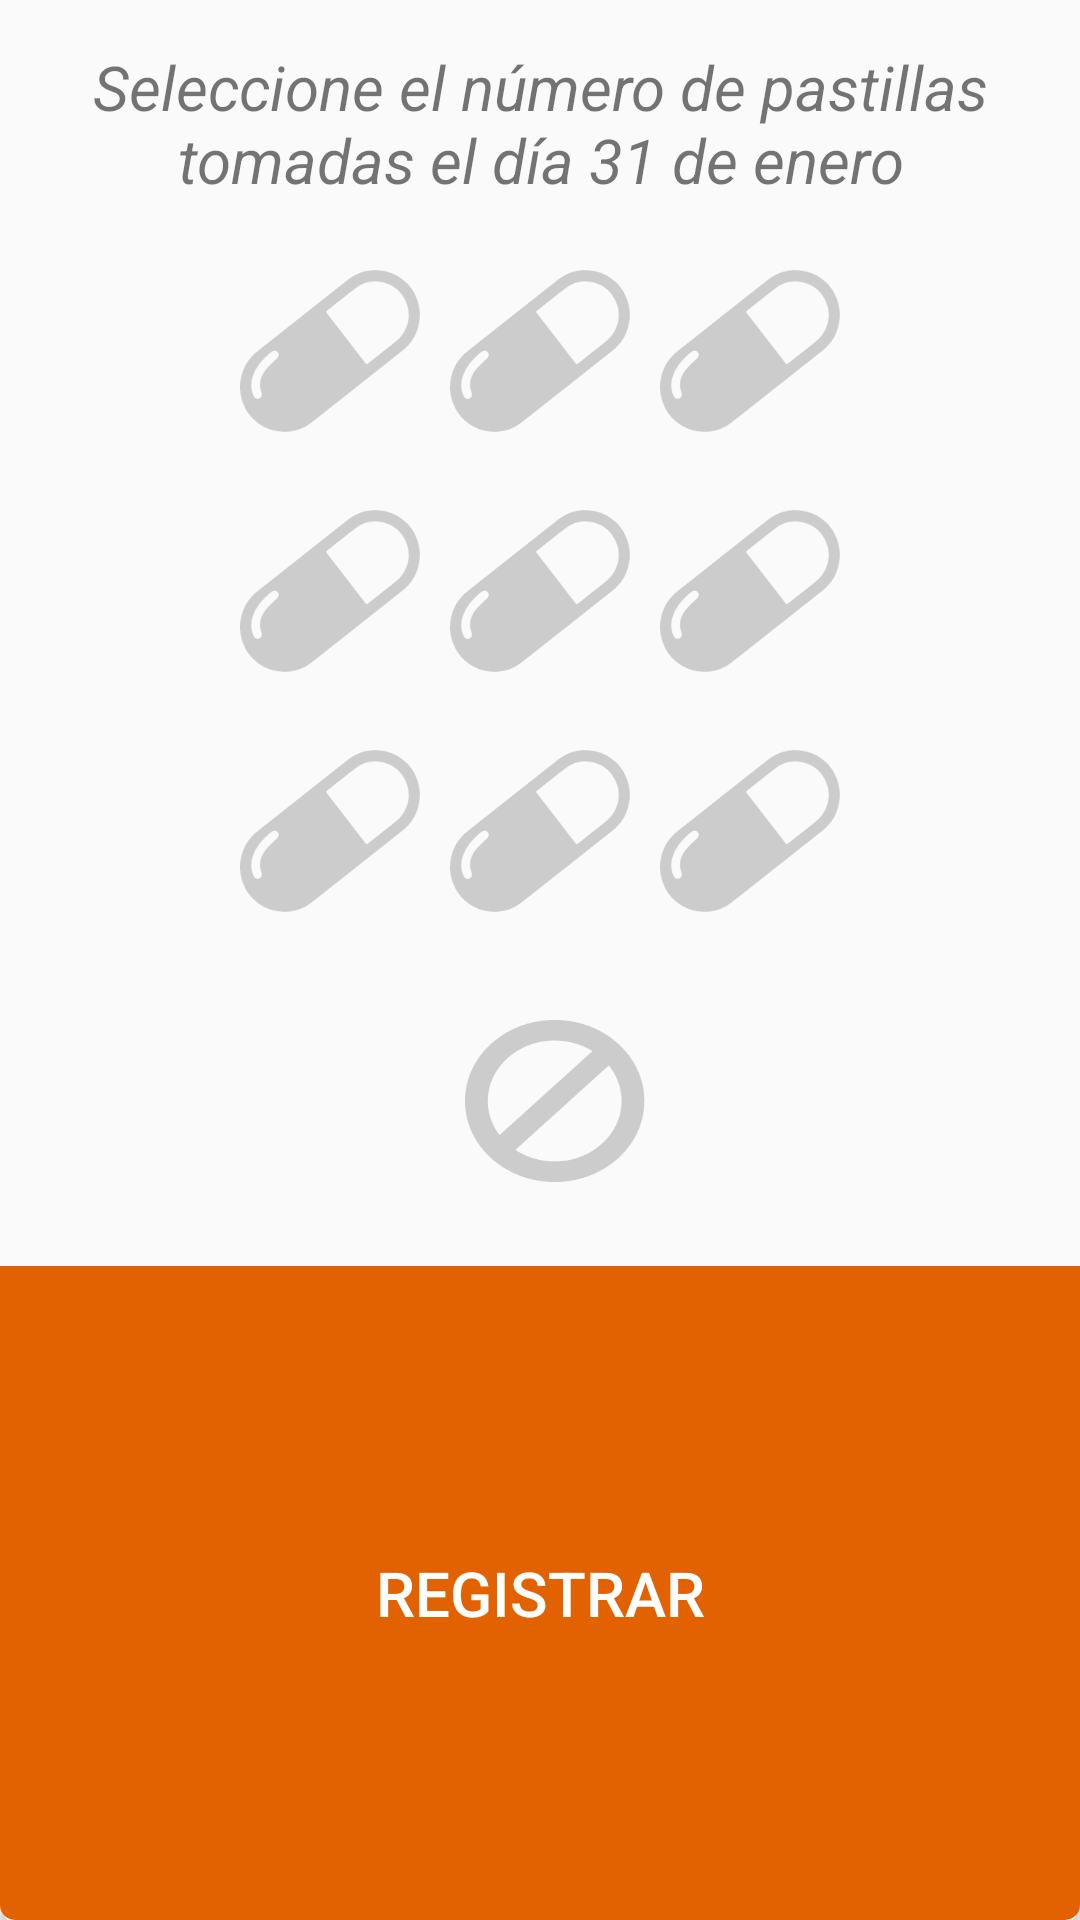

Icons on this 1080*1920 Android screen, each with the point to tap as (x,y):
ninguna peque deseleccionada: (554,1101)
